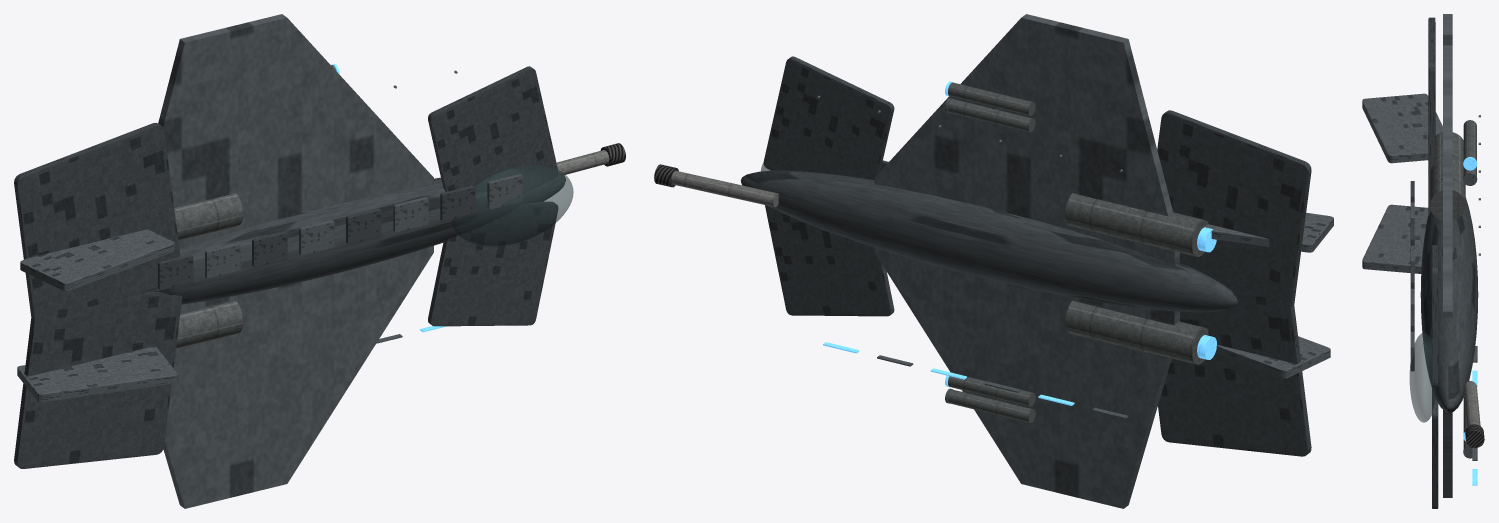
File: s-x04-specter-aero-lod0.glb
3 views of the same model, side by side, from view 1: azimuth 30°, elevation 25°; view 2: azimuth 150°, elevation 25°; view 3: azimuth 270°, elevation 25° (orthographic). The views are drawn at different scales.
Parts seen in each view (by area): view 1: combat_main_wing, combat_tailplane_-1, combat_tailplane_1, combat_fuselage, canard_-1, canard_1, combat_canopy, combat_fin_-1, combat_fin_1, combat_engine_1, combat_engine_0, airframe_panel_4 (+8 smaller); view 2: combat_main_wing, combat_fuselage, combat_tailplane_1, combat_tailplane_-1, canard_1, canard_-1, combat_engine_1, combat_engine_0, combat_fin_-1, combat_gun_barrel_0, combat_fin_1, combat_1_tube_1 (+3 smaller); view 3: combat_fuselage, combat_main_wing, combat_fin_1, combat_fin_-1, combat_engine_1, combat_canopy, combat_tailplane_1, canard_1, canard_-1, combat_gun_barrel_0, combat_1_tube_2, combat_gun_muzzle_0 (+3 smaller).
Part boxes in pixels (x1=…): combat_main_wing: x1=158, y1=14, x2=433, y2=508; combat_tailplane_-1: x1=14, y1=291, x2=182, y2=468; combat_tailplane_1: x1=14, y1=123, x2=180, y2=323; combat_fuselage: x1=147, y1=173, x2=565, y2=304; canard_-1: x1=428, y1=202, x2=557, y2=326; canard_1: x1=428, y1=66, x2=557, y2=193; combat_canopy: x1=452, y1=165, x2=573, y2=246; combat_fin_-1: x1=17, y1=347, x2=177, y2=402; combat_fin_1: x1=20, y1=229, x2=174, y2=291; combat_engine_1: x1=174, y1=193, x2=243, y2=240; combat_engine_0: x1=176, y1=301, x2=243, y2=348; airframe_panel_4: x1=346, y1=208, x2=381, y2=244; combat_main_wing: x1=874, y1=14, x2=1179, y2=508; combat_fuselage: x1=740, y1=170, x2=1237, y2=312; combat_tailplane_1: x1=1157, y1=110, x2=1311, y2=307; combat_tailplane_-1: x1=1158, y1=294, x2=1311, y2=456; canard_1: x1=763, y1=56, x2=894, y2=179; canard_-1: x1=765, y1=205, x2=894, y2=316; combat_engine_1: x1=1065, y1=193, x2=1208, y2=256; combat_engine_0: x1=1065, y1=300, x2=1208, y2=364; combat_fin_-1: x1=1215, y1=336, x2=1330, y2=378; combat_gun_barrel_0: x1=671, y1=170, x2=778, y2=207; combat_fin_1: x1=1201, y1=212, x2=1333, y2=252; combat_1_tube_1: x1=948, y1=99, x2=1035, y2=132; combat_fuselage: x1=1420, y1=197, x2=1478, y2=412; combat_main_wing: x1=1443, y1=14, x2=1452, y2=497; combat_fin_1: x1=1362, y1=93, x2=1442, y2=163; combat_fin_-1: x1=1362, y1=204, x2=1428, y2=273; combat_engine_1: x1=1430, y1=132, x2=1465, y2=220; combat_canopy: x1=1409, y1=333, x2=1435, y2=422; combat_tailplane_1: x1=1428, y1=17, x2=1435, y2=215; canard_1: x1=1432, y1=245, x2=1438, y2=387; canard_-1: x1=1432, y1=389, x2=1438, y2=508; combat_gun_barrel_0: x1=1464, y1=381, x2=1480, y2=426; combat_1_tube_2: x1=1463, y1=120, x2=1476, y2=160; combat_gun_muzzle_0: x1=1465, y1=424, x2=1484, y2=448.
Size of what is drawn, in the model's own units: 15.75 by 11.17 by 2.83.
Materials: 7 (7 with a texture image).
